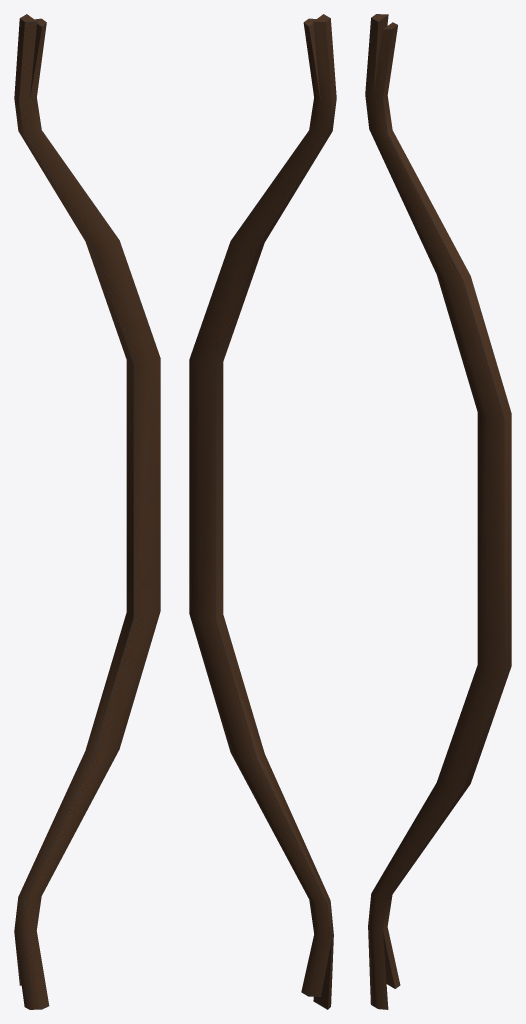
The model's file is arch0.fbx.
3 views of the same model, side by side, from view 1: azimuth 30°, elevation 25°; view 2: azimuth 150°, elevation 25°; view 3: azimuth 330°, elevation 25° (orthographic).
Parts seen in each view (by area): view 1: Cylinder_Baked; view 2: Cylinder_Baked; view 3: Cylinder_Baked.
Part boxes in pixels (box(x1,y1,x2,y2)): Cylinder_Baked: box(14, 14, 160, 1009); Cylinder_Baked: box(189, 14, 336, 1009); Cylinder_Baked: box(365, 14, 511, 1009).
Bounding box in the file's own units: 22.28 × 149 × 4.19.
